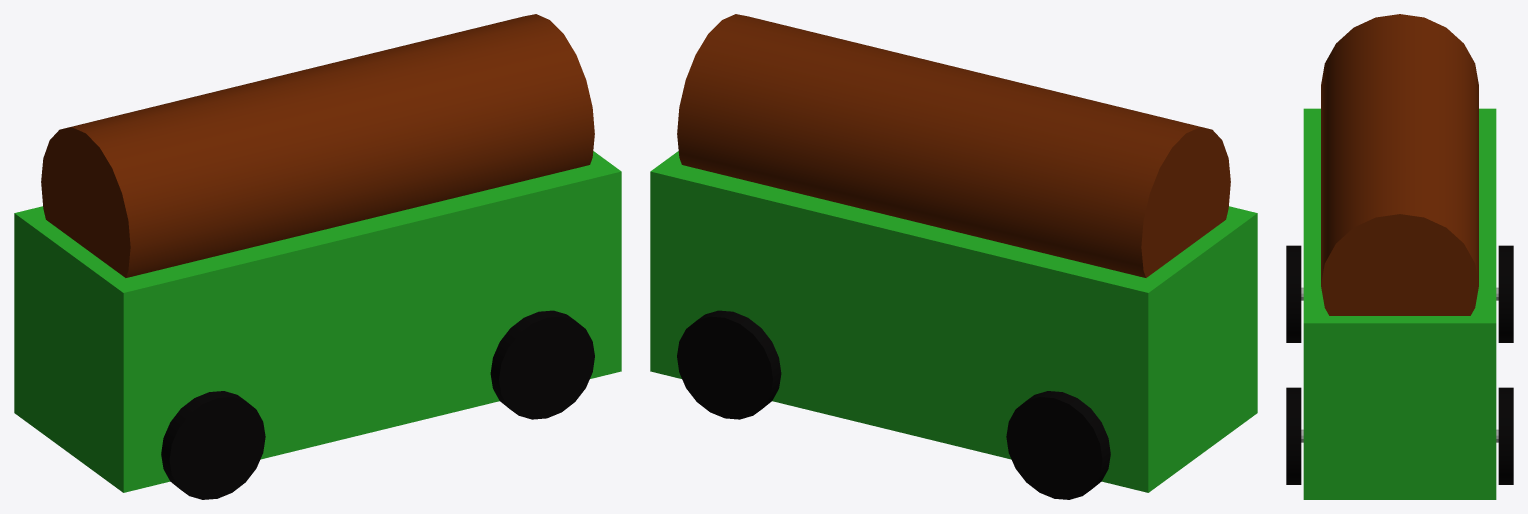
File: train_wagon.fbx
3 renders of one model, left to right at view 1: azimuth 30°, elevation 25°; view 2: azimuth 150°, elevation 25°; view 3: azimuth 270°, elevation 25°, orthographic. The views are drawn at different scales.
Visible parts, largest first — view 1: polySurface2, polySurface3, polySurface8, polySurface1; view 2: polySurface2, polySurface3, polySurface5, polySurface6; view 3: polySurface3, polySurface2, polySurface1, polySurface5, polySurface6, polySurface8.
Boxes of the visible parts, <box> form: polySurface2: <box>14,151,621,492</box>; polySurface3: <box>41,14,594,277</box>; polySurface8: <box>161,391,265,499</box>; polySurface1: <box>490,310,594,419</box>; polySurface2: <box>650,151,1257,492</box>; polySurface3: <box>677,14,1230,277</box>; polySurface5: <box>1006,391,1110,499</box>; polySurface6: <box>677,310,781,419</box>; polySurface3: <box>1321,14,1478,315</box>; polySurface2: <box>1303,108,1496,499</box>; polySurface1: <box>1286,387,1301,484</box>; polySurface5: <box>1498,245,1513,342</box>; polySurface6: <box>1498,387,1513,484</box>; polySurface8: <box>1286,245,1301,342</box>.
Size of the model in its own units: 15.12 by 9.71 by 6.76.
